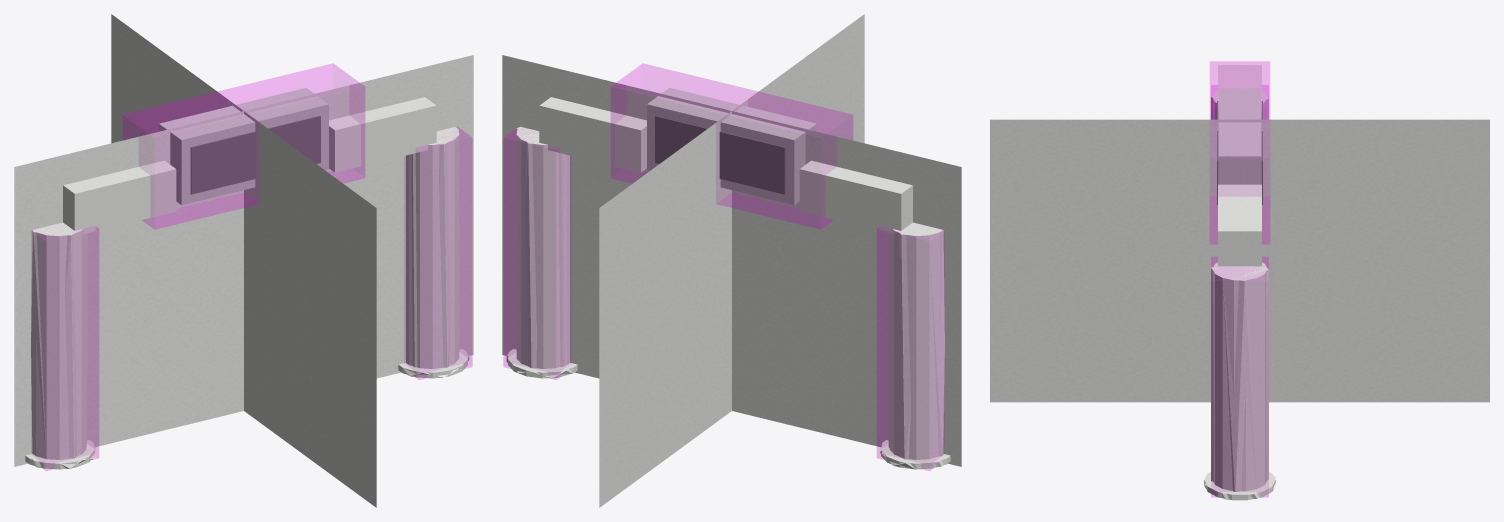
File: arch_blank.dae
3 views of the same model, side by side, from view 1: azimuth 30°, elevation 25°; view 2: azimuth 150°, elevation 25°; view 3: azimuth 270°, elevation 25° (orthographic). The views are drawn at different scales.
Visible parts, largest first — view 1: arch_blank_a50, arch_blank_a800, Colmesh_header-1, arch_blank_a200, Colmesh_legR-1, Colmesh_legL-1; view 2: arch_blank_a50, arch_blank_a800, Colmesh_header-1, arch_blank_a200, Colmesh_legL-1, Colmesh_legR-1; view 3: arch_blank_a50, arch_blank_a800, Colmesh_legR-1, arch_blank_a200, Colmesh_header-1.
Part boxes in pixels (box(x1,y1,x2,y2)): arch_blank_a50: box(14, 14, 473, 507); arch_blank_a800: box(25, 88, 467, 469); Colmesh_header-1: box(123, 63, 364, 229); arch_blank_a200: box(27, 87, 469, 468); Colmesh_legR-1: box(404, 127, 472, 379); Colmesh_legL-1: box(31, 226, 98, 470); arch_blank_a50: box(502, 14, 961, 507); arch_blank_a800: box(508, 87, 950, 469); Colmesh_header-1: box(611, 63, 852, 229); arch_blank_a200: box(506, 90, 944, 469); Colmesh_legL-1: box(877, 226, 944, 470); Colmesh_legR-1: box(503, 127, 571, 379); arch_blank_a50: box(990, 119, 1489, 402); arch_blank_a800: box(1204, 65, 1275, 500); Colmesh_legR-1: box(1211, 257, 1268, 497); arch_blank_a200: box(1204, 65, 1275, 499); Colmesh_header-1: box(1210, 61, 1269, 244).
Size of the model in its own units: 9.97 by 9.97 by 6.44.
4 materials, 3 textured.
